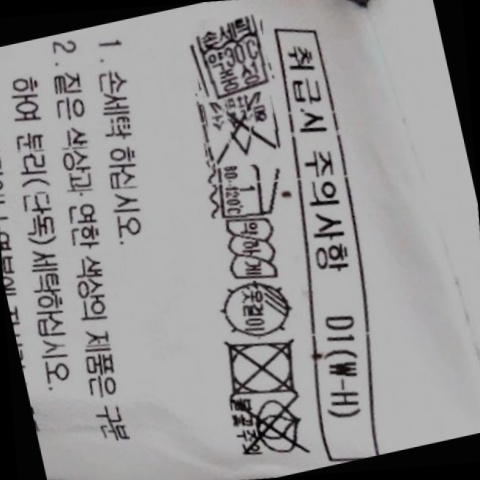DN_tumble_dry: (211, 326, 308, 408)
hand_wash: (185, 14, 278, 101)
iron_low: (206, 153, 286, 227)
line_dry_in_shade: (211, 273, 302, 345)
wring: (216, 211, 285, 289)
